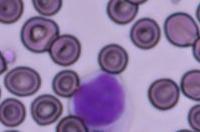L: (68, 69, 134, 132)
